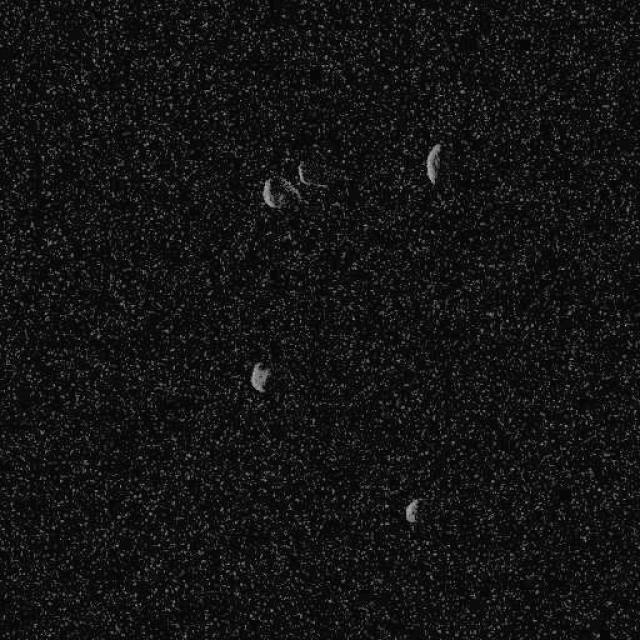D2: (295, 159, 327, 190), (262, 175, 288, 209), (249, 360, 271, 392), (425, 141, 441, 185), (404, 498, 420, 524)
